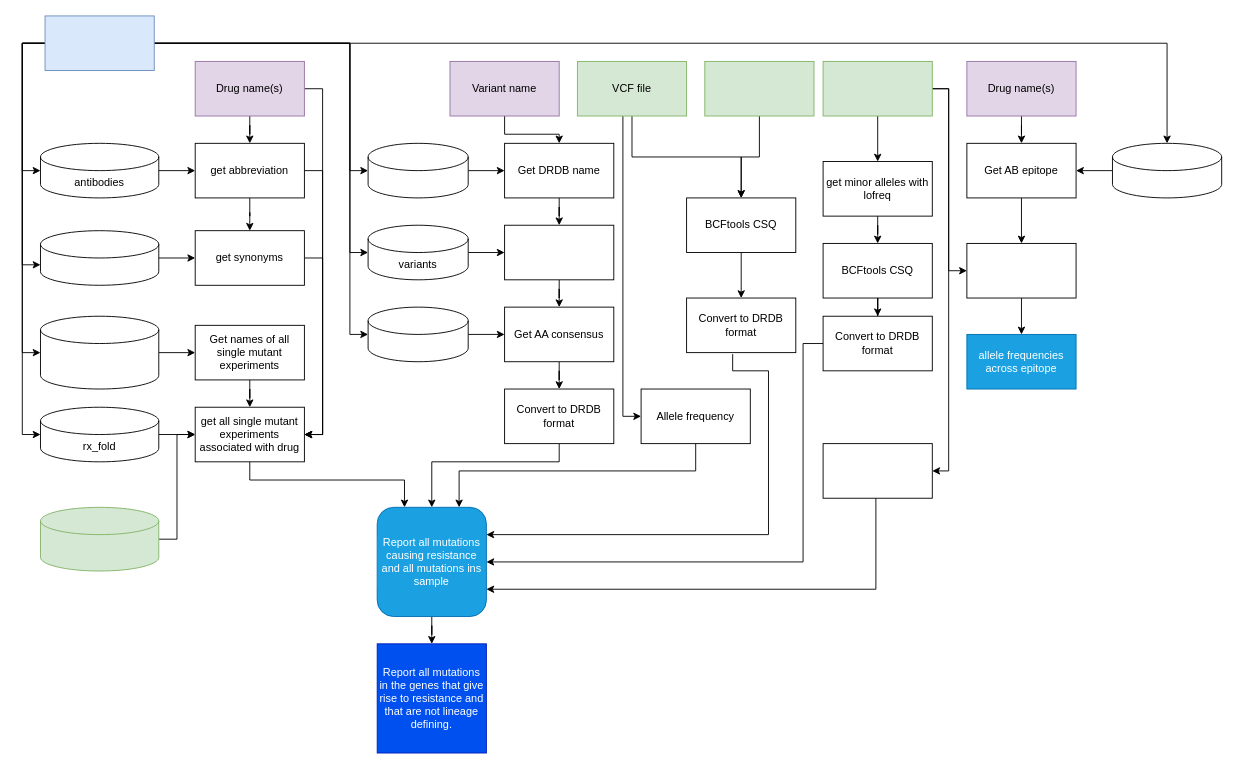
The diagram is 1238 pixels wide and 769 high, and some of its shapes have lost their labels. Here are the shapes that lost their labels. From the top down, the box of each, then its label:
(44, 15, 154, 71): Check COVID-DRDB for update (Stanford resistance database)
(704, 61, 814, 116): GFF reference
(822, 61, 932, 116): BAM file
(367, 142, 468, 198): variant_synonyms
(1112, 142, 1222, 198): antibody_epitopes
(40, 230, 159, 285): antibody_synonyms
(504, 224, 614, 280): Check consensus availability
(966, 243, 1076, 298): bammix
(40, 315, 159, 389): isolate_mutations_ single_s_mut_view
(367, 306, 468, 362): variant_consensus
(822, 443, 932, 498): Get coverage information
(40, 506, 159, 571): Custom table
